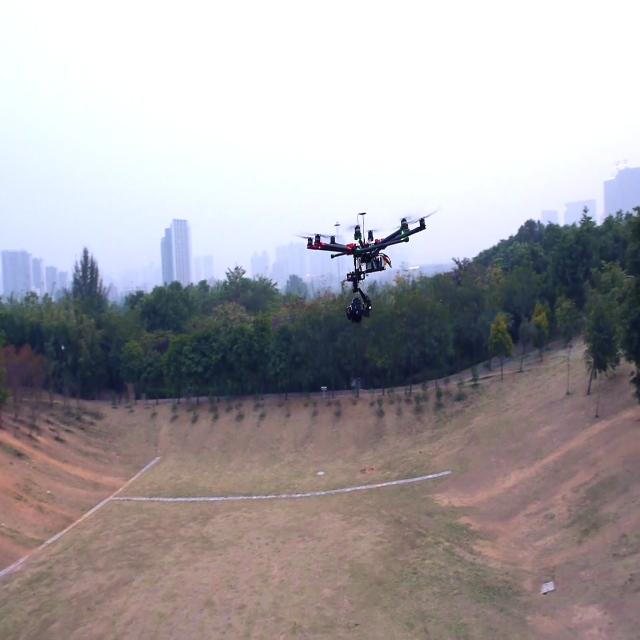drone: (279, 172, 448, 360)
